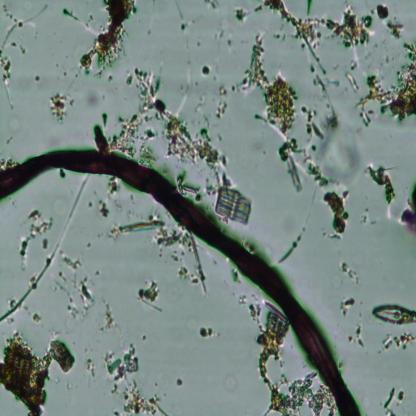Background material: (121, 57, 235, 191), (236, 36, 308, 198), (0, 327, 79, 416), (254, 332, 334, 415), (357, 40, 416, 127), (73, 0, 137, 78), (262, 0, 327, 76), (107, 343, 168, 416), (310, 118, 365, 186), (0, 258, 55, 322), (158, 229, 213, 293), (55, 173, 92, 252), (322, 0, 378, 47), (92, 110, 145, 153), (310, 63, 342, 131), (19, 203, 55, 259), (108, 211, 174, 239), (299, 149, 341, 190), (324, 191, 352, 244), (367, 161, 396, 206), (0, 0, 24, 52), (137, 121, 159, 172), (76, 276, 100, 322), (169, 171, 206, 200), (46, 92, 78, 124), (279, 226, 307, 262), (0, 48, 15, 110), (212, 80, 232, 124), (300, 104, 324, 140), (137, 278, 162, 312), (400, 180, 416, 233), (242, 293, 265, 327), (378, 332, 414, 353), (338, 259, 363, 285), (98, 304, 117, 336), (338, 293, 358, 320), (62, 295, 81, 322), (383, 384, 398, 416), (346, 325, 365, 350), (221, 373, 241, 395), (59, 253, 84, 270), (232, 3, 252, 24), (214, 16, 230, 42), (3, 38, 26, 56), (58, 5, 80, 22), (199, 326, 221, 340), (345, 72, 360, 92), (84, 356, 97, 379), (386, 20, 402, 38), (268, 30, 288, 42), (375, 3, 389, 20), (101, 198, 110, 221), (110, 179, 121, 196), (232, 268, 242, 285), (204, 0, 221, 10), (33, 310, 43, 324), (305, 0, 312, 18), (201, 64, 211, 76), (32, 73, 42, 85), (178, 20, 187, 32), (399, 388, 406, 403), (103, 74, 116, 82), (360, 212, 368, 224), (308, 142, 318, 151), (176, 376, 183, 388), (193, 38, 202, 47), (140, 332, 147, 342), (88, 198, 94, 209), (86, 240, 94, 248), (59, 170, 65, 179), (226, 40, 232, 48), (352, 63, 358, 70), (62, 71, 68, 76)
Cotton: (0, 150, 362, 416)
Diatom: (216, 186, 254, 229), (374, 302, 416, 325), (264, 302, 289, 340)
